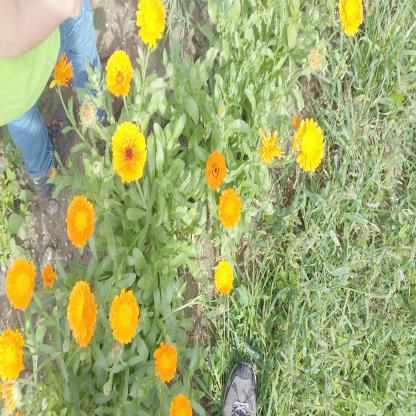marigold: (113, 122, 147, 180), (68, 283, 94, 336), (112, 293, 138, 344), (298, 120, 322, 171), (67, 200, 93, 244), (8, 261, 32, 308), (1, 331, 22, 380), (154, 343, 178, 378), (219, 190, 241, 227), (206, 152, 225, 189), (216, 261, 233, 298), (169, 396, 188, 416)
